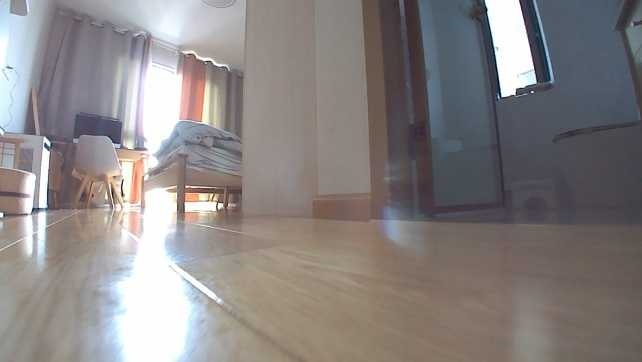bed1: (140, 119, 241, 216)
door_anno: (362, 3, 507, 219)
plastic_stool: (508, 175, 558, 210)
toilet: (549, 120, 640, 210)
